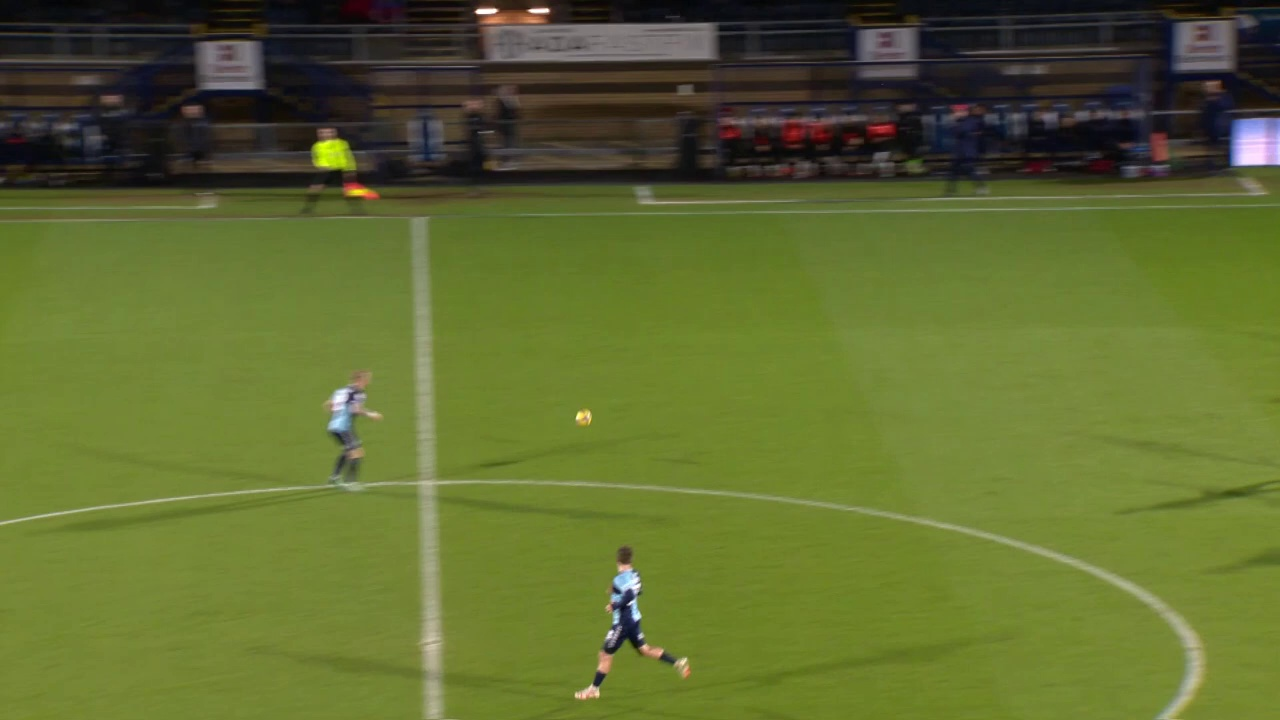ball: (659, 256, 685, 277)
